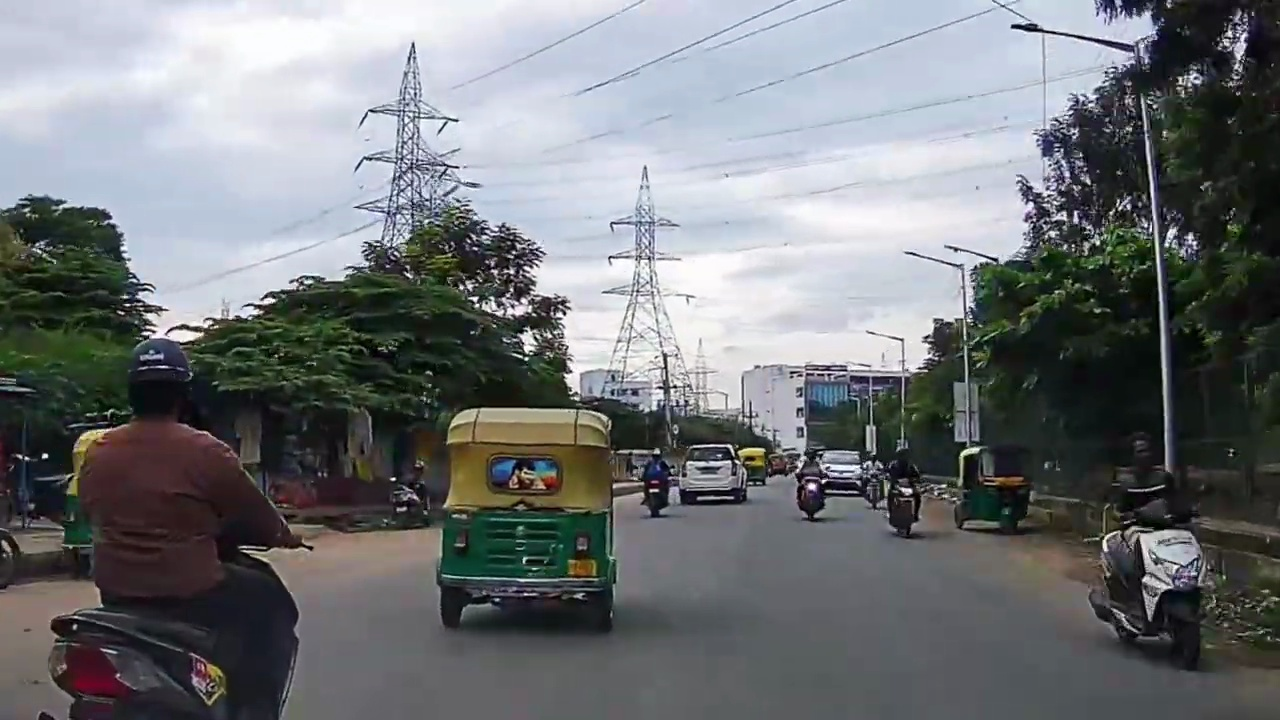garbage: (1232, 573, 1273, 641)
